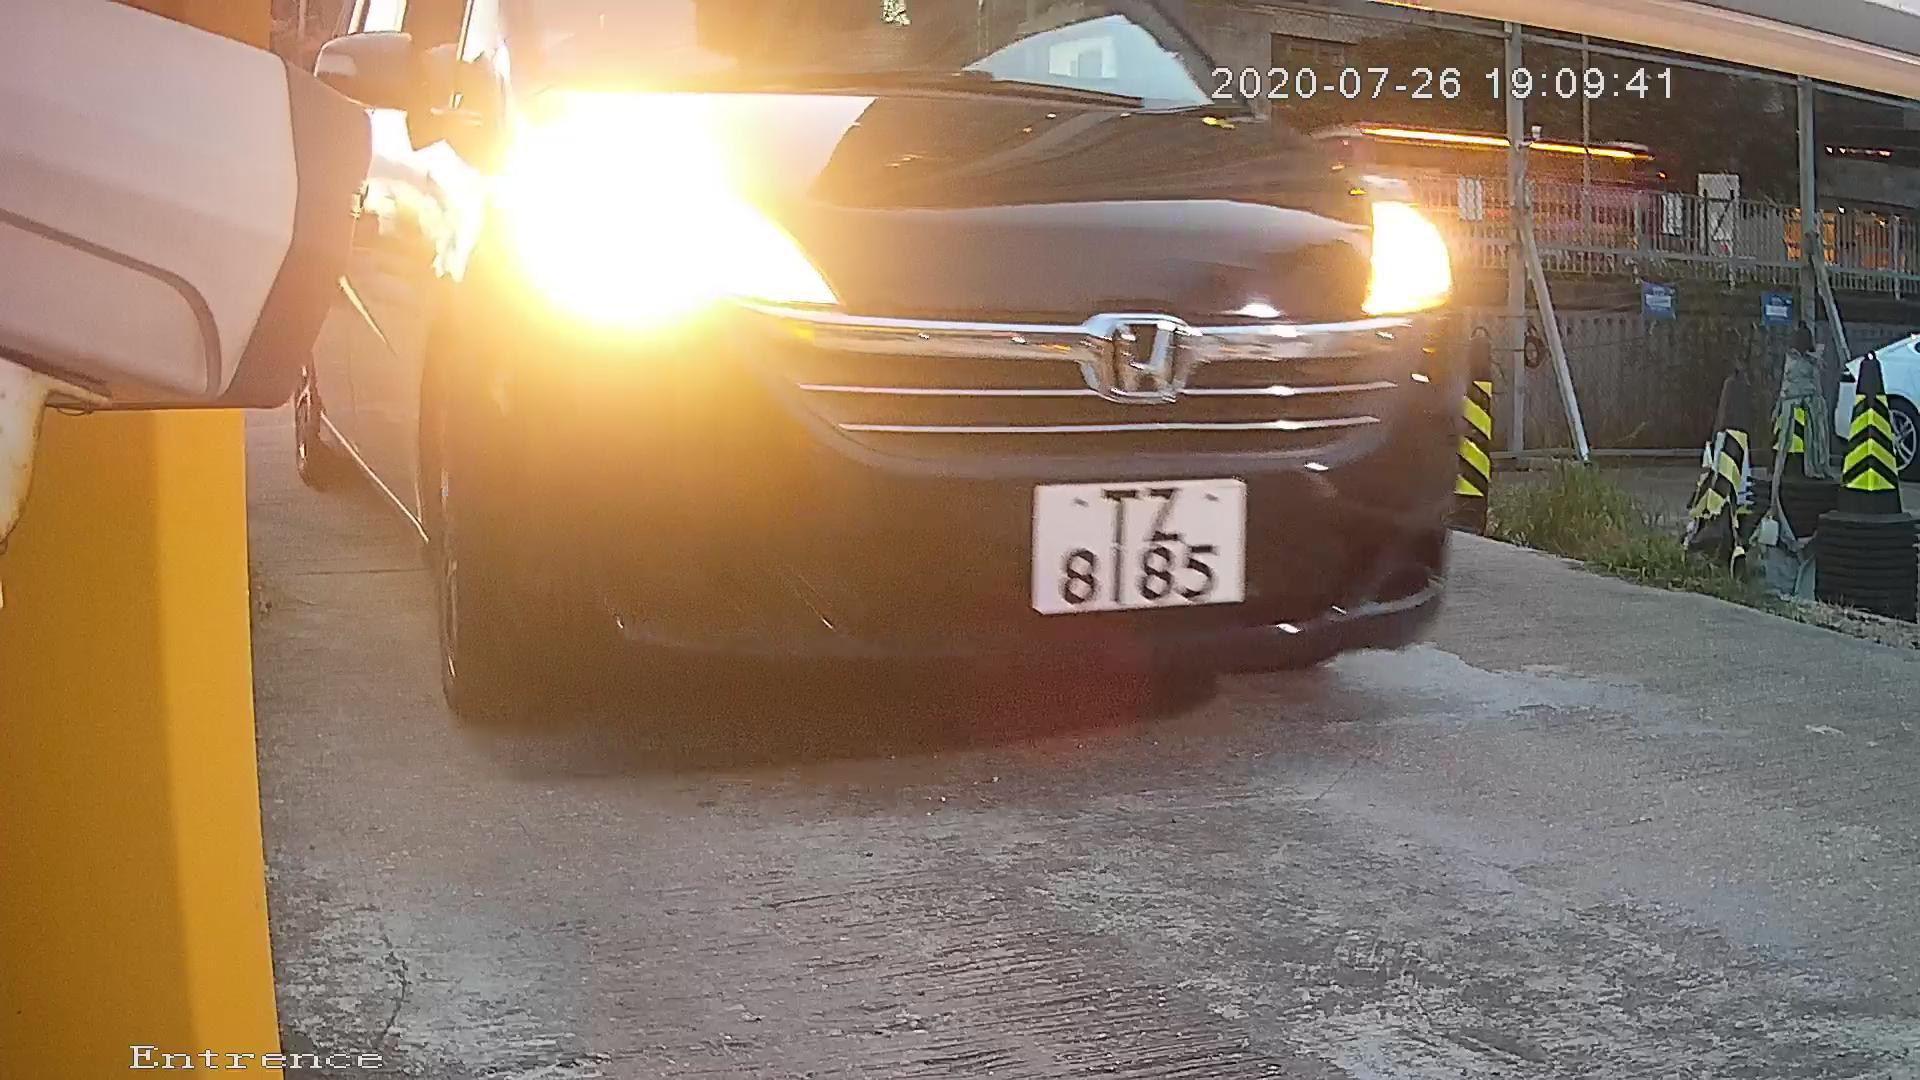License Plate: (995, 463, 1261, 622)
